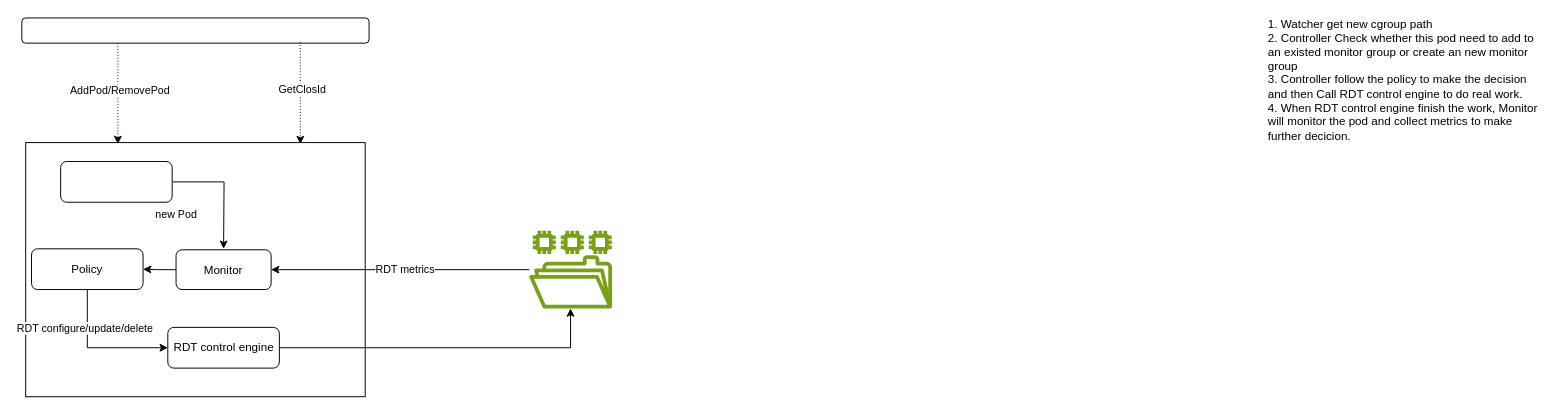
Some shapes in this 1558 by 414 pixel diagram are drawn without their labels. Each missing label, with the centre of its shape:
"API" belongs at pixel 195 30.
"Watcher" belongs at pixel 116 181.
